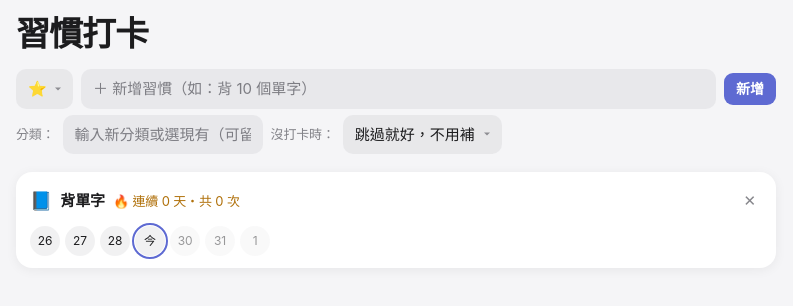
it: 習慣頁打卡／補卡／取消的寫入／刷新邊界 › 重試刷新仍失敗時保留提示，且仍不重送打卡
Click the text "今". click: (150, 241)
box: [135,226,165,256]
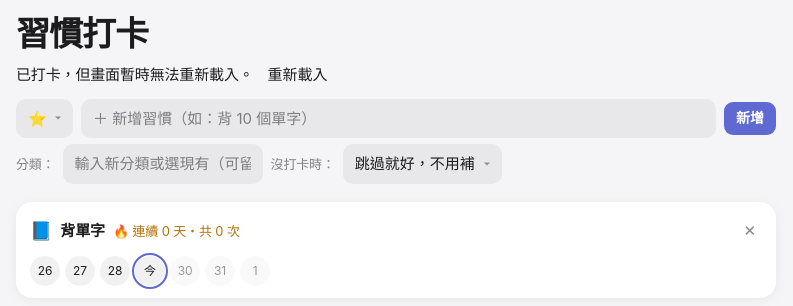
Expected: the message "已打卡，但畫面暫時無法重新載入。 重新載入" is shown, [16,63,334,87]
Click the button "重新載入". click: (298, 75)
box: [262,63,334,87]
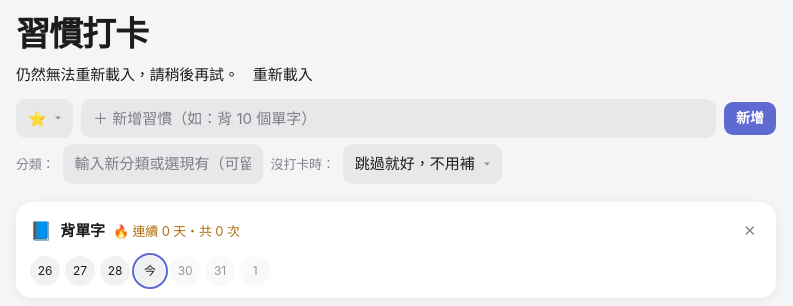
Expected: the button "重新載入" is enabled, [247,63,319,87]
Expected: the message shows "仍然無法重新載入，請稍後再試。", [16,65,239,84]
